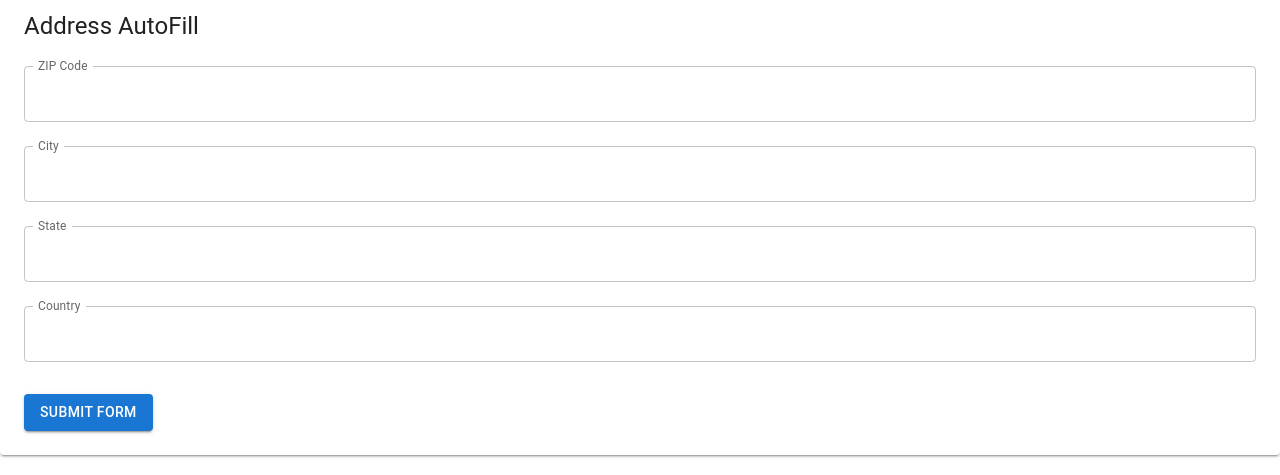
Test case: FormRenderer › auto-fills target fields when dependencies are present
This screenshot has width=1280, height=475.
Step 1. Type "1000" into the field labelled "ZIP Code" → (640,94), box [24, 66, 1256, 122]
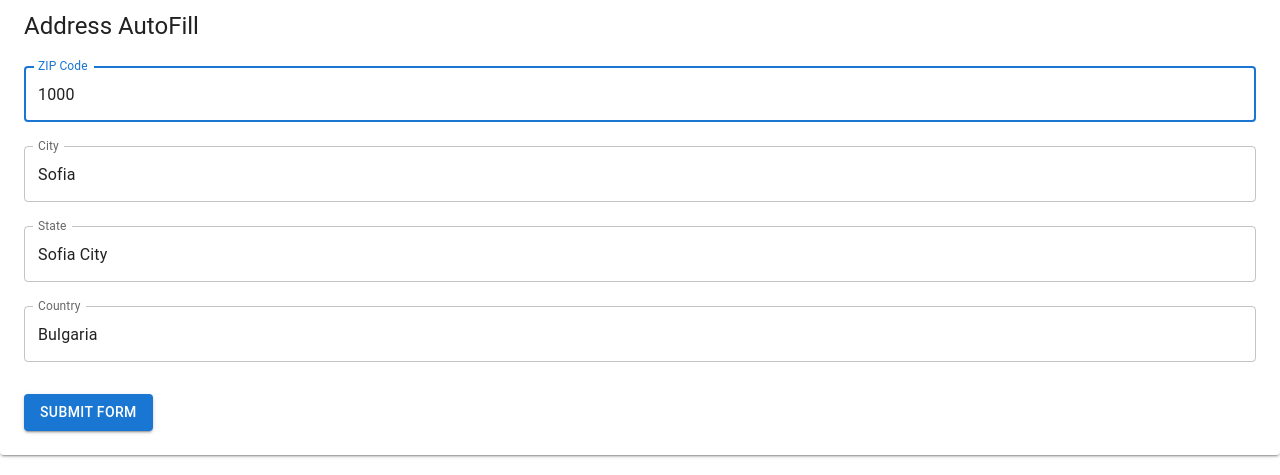
Now the field showing "Sofia" is shown, box [24, 146, 1256, 202]
Now the field showing "Bulgaria" is shown, box [24, 306, 1256, 362]
